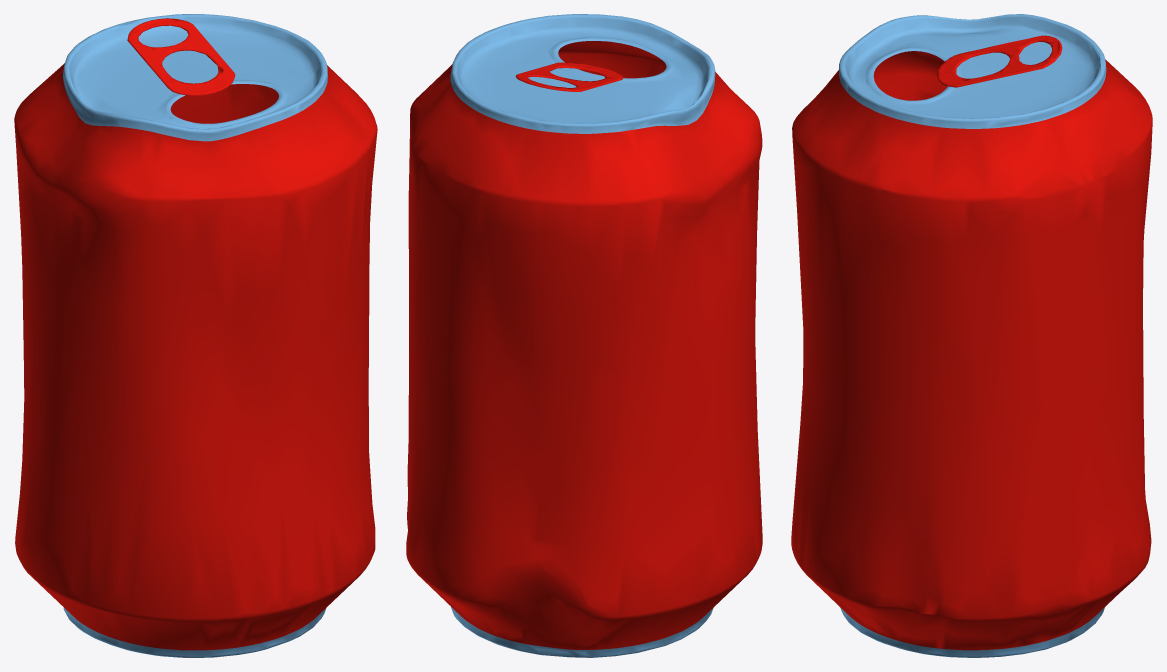
Rendered from uploads_files_3226808_cola2021.fbx.
3 renders of one model, left to right at view 1: azimuth 30°, elevation 25°; view 2: azimuth 150°, elevation 25°; view 3: azimuth 270°, elevation 25°, orthographic.
Visible parts, largest first — view 1: Low Poly; view 2: Low Poly; view 3: Low Poly.
Boxes of the visible parts, x1,y1,x2,y2 form: Low Poly: (14, 14, 377, 657); Low Poly: (406, 14, 762, 657); Low Poly: (791, 14, 1152, 657).
Bounding box in the file's own units: 9.2 × 15.5 × 9.15.
